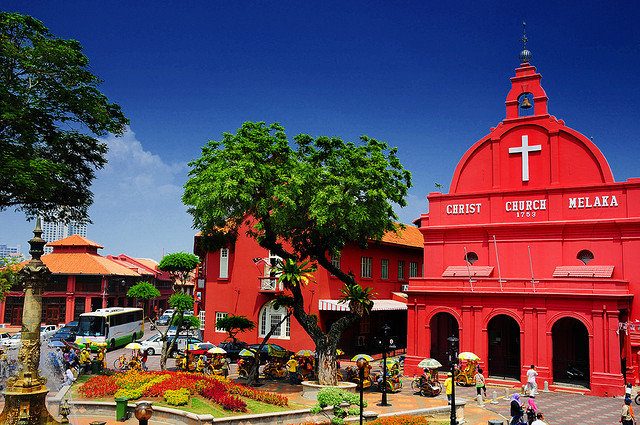Church: (403, 43, 633, 377)
